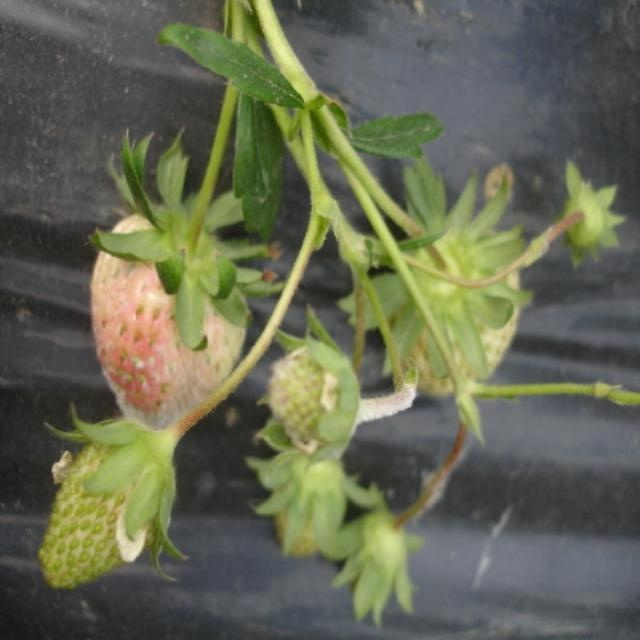Powdery Mildew Fruit: (90, 205, 247, 434), (266, 339, 362, 472)
